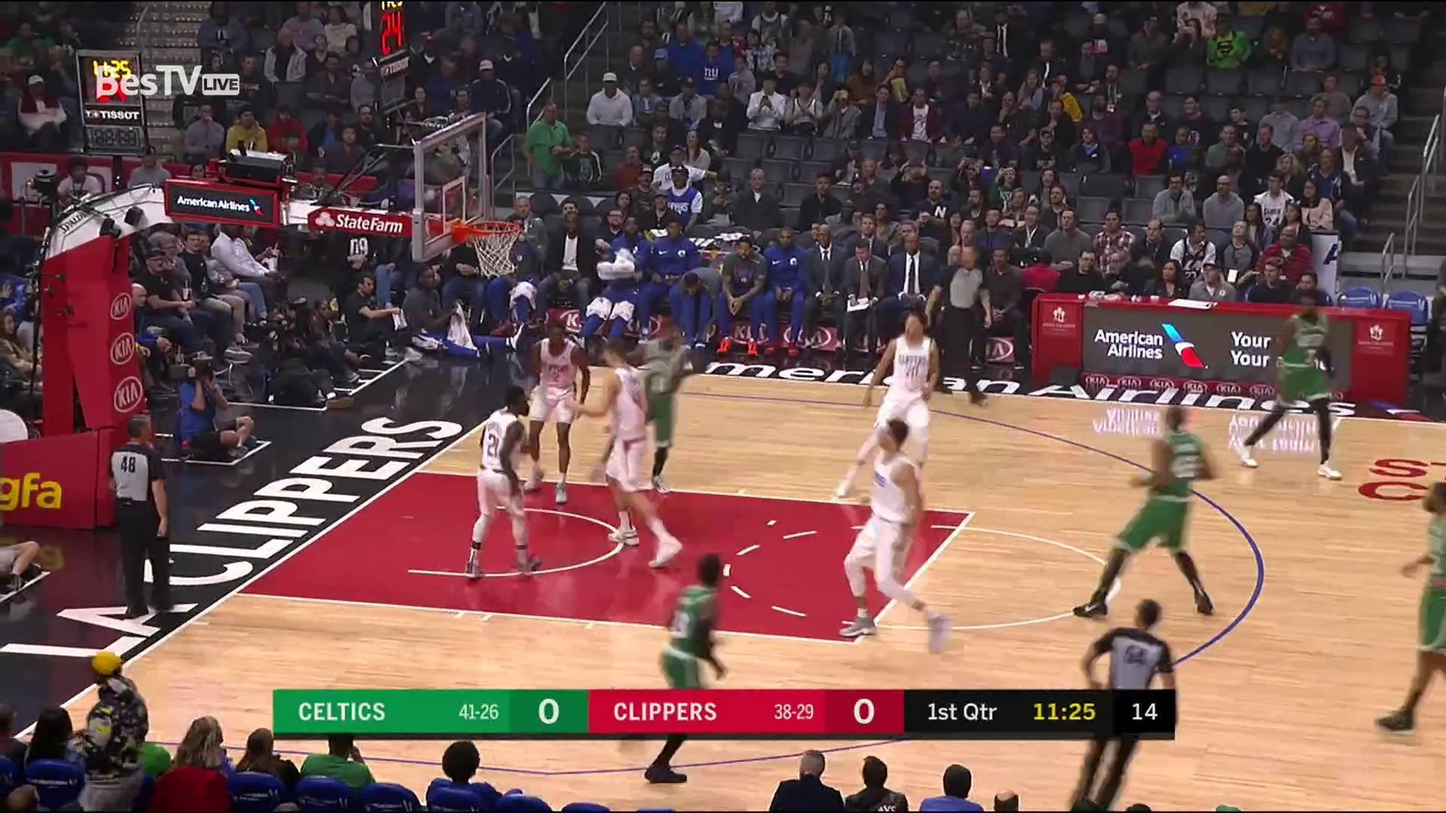basketball: (609, 159, 639, 189)
